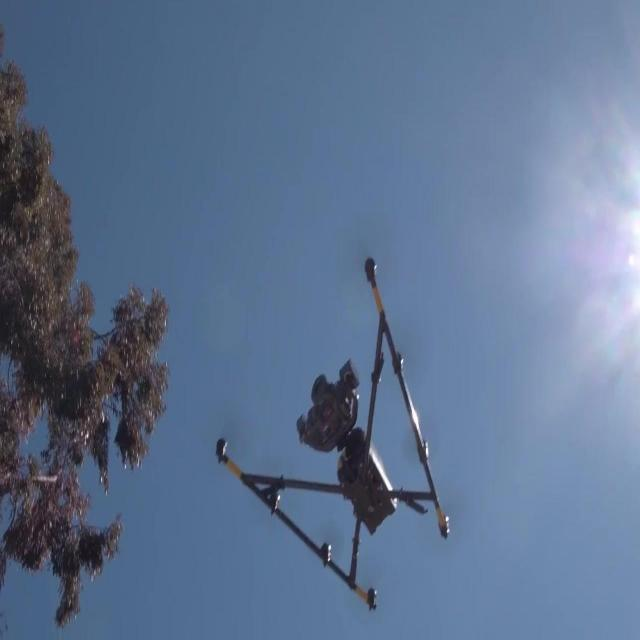UAV: (216, 258, 450, 612)
